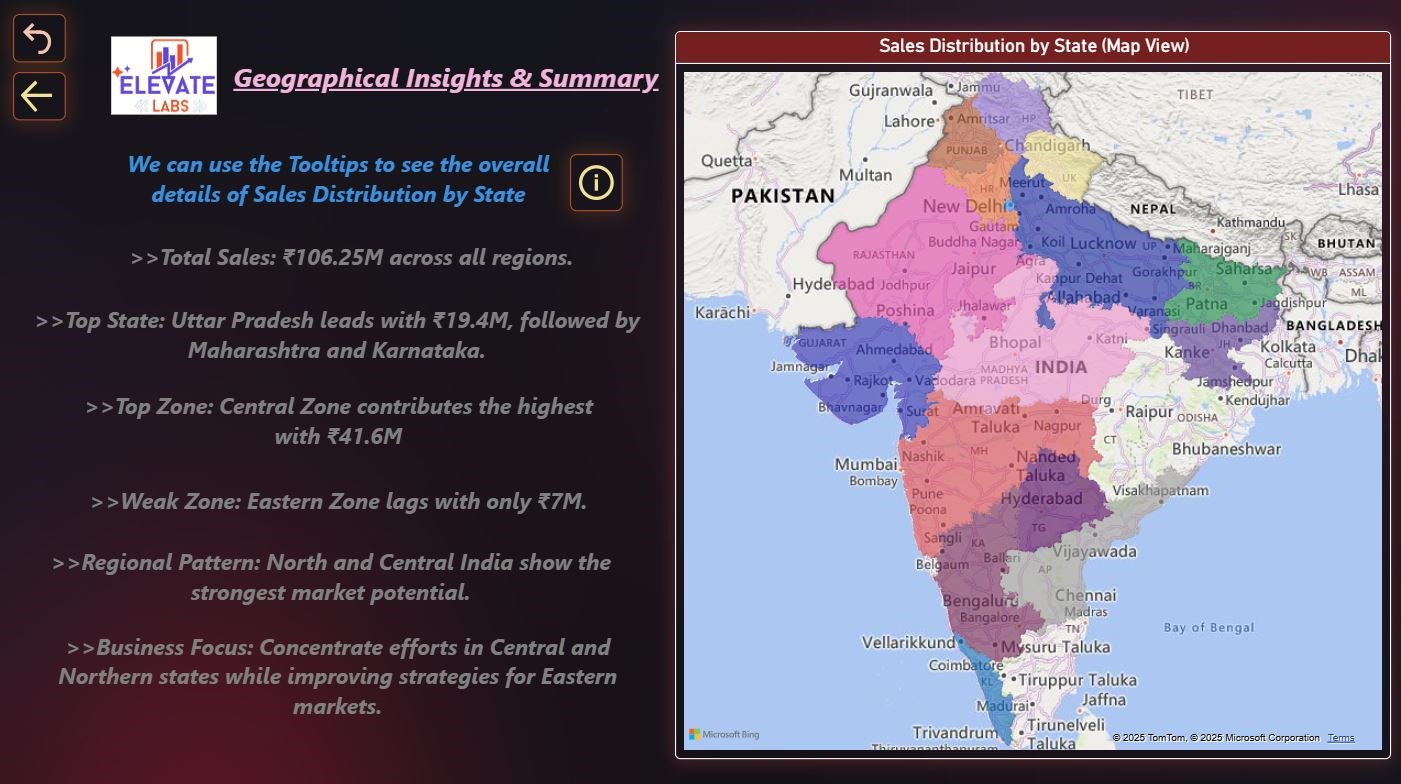

This screenshot's page, from the dashboard's own definition file:
{"tool":"powerbi","page":{"name":"Geographical Insights","canvas":[1280,720],"ordinal":2},"visuals":[{"type":"filledMap","title":"Sales Distribution by State (Map View)","fields":{"Category":["Diwali Sales Data.State"]},"box":[613.7,29,650.9,661.7],"z":0},{"type":"actionButton","box":[11.8,13.6,48,44.4],"z":1000},{"type":"actionButton","box":[11.8,66.1,48,44.4],"z":2000},{"type":"image","box":[78.8,29,139.4,81.5],"z":3000},{"type":"actionButton","box":[191,43.5,429.1,51.6],"z":4000},{"type":"actionButton","box":[98.7,208.2,439.9,51.6],"z":5000},{"type":"actionButton","box":[24.4,259.8,563.1,87.8],"z":6000},{"type":"actionButton","box":[57,347.9,500.6,67.9],"z":7000},{"type":"actionButton","box":[47.1,421.8,520.5,67.9],"z":8000},{"type":"actionButton","box":[0,489.7,601.1,67.9],"z":9000},{"type":"actionButton","box":[19.9,551.3,573.9,126.7],"z":10000},{"type":"actionButton","box":[77.9,116.8,459,91.4],"z":11000},{"type":"actionButton","box":[517.8,141.2,48,51.6],"z":12000}]}

Visuals, with their boxes in screenshot pixels (x1, y1, x2, y2), scaled from the page's 1280x720 canvas onto the 1401x784 screenshot:
"Sales Distribution by State (Map View)" filledMap: [x1=672, y1=32, x2=1384, y2=752]
actionButton: [x1=13, y1=15, x2=65, y2=63]
actionButton: [x1=13, y1=72, x2=65, y2=120]
image: [x1=86, y1=32, x2=239, y2=120]
actionButton: [x1=209, y1=47, x2=679, y2=104]
actionButton: [x1=108, y1=227, x2=590, y2=283]
actionButton: [x1=27, y1=283, x2=643, y2=378]
actionButton: [x1=62, y1=379, x2=610, y2=453]
actionButton: [x1=52, y1=459, x2=621, y2=533]
actionButton: [x1=0, y1=533, x2=658, y2=607]
actionButton: [x1=22, y1=600, x2=650, y2=738]
actionButton: [x1=85, y1=127, x2=588, y2=227]
actionButton: [x1=567, y1=154, x2=619, y2=210]
